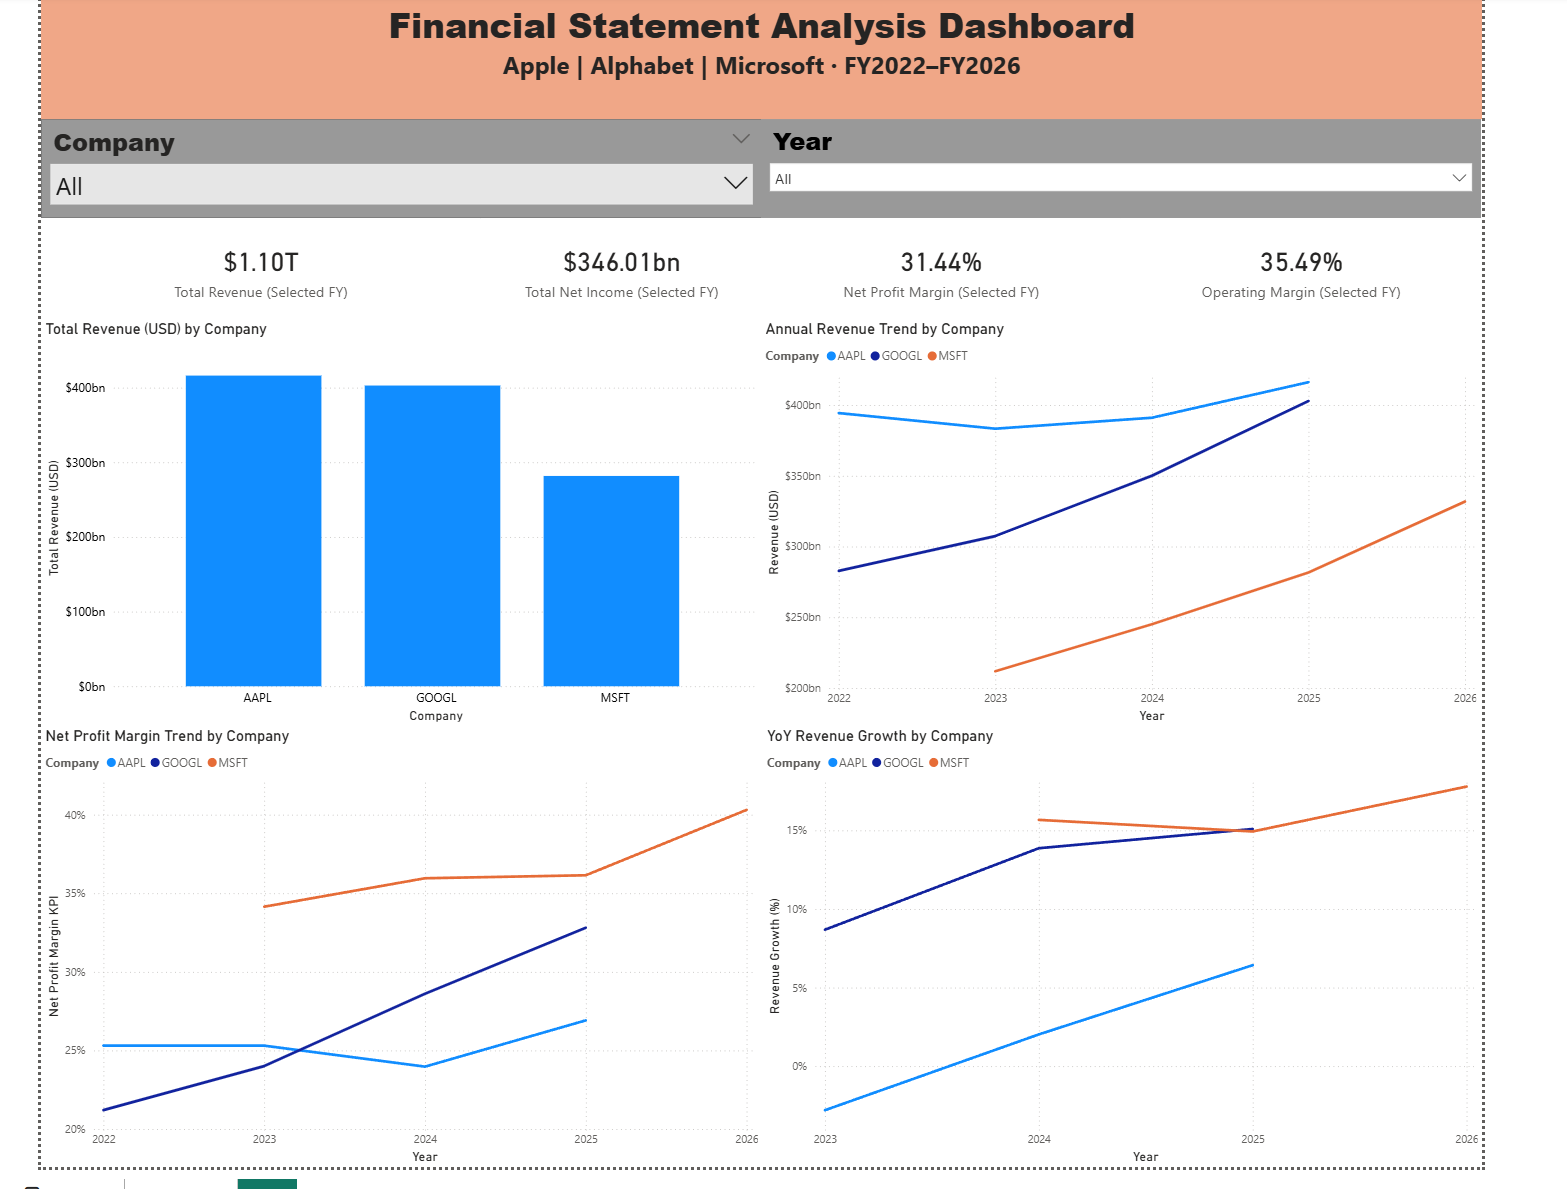

The page's visual inventory and layout, read from the dashboard file:
{"tool":"powerbi","page":{"name":"Page 1","canvas":[1600,1300],"ordinal":0},"visuals":[{"type":"slicer","fields":{"Values":["financial_dashboard_data.symbol"]},"box":[0,136.6,801,109.9],"z":0},{"type":"slicer","fields":{"Values":["financial_dashboard_data.year"]},"box":[799.3,136.6,799.3,109.9],"z":1000},{"type":"card","fields":{"Values":["financial_dashboard_data.Revenue KPI"]},"box":[0,246.5,487.9,113.2],"z":2000},{"type":"card","fields":{"Values":["financial_dashboard_data.Net Income KPI"]},"box":[487.9,246.5,313.1,113.2],"z":3000},{"type":"card","fields":{"Values":["financial_dashboard_data.Net Profit Margin KPI"]},"box":[799.3,246.5,399.7,113.2],"z":4000},{"type":"card","fields":{"Values":["financial_dashboard_data.Operating Margin KPI"]},"box":[1199,246.5,399.7,113.2],"z":5000},{"type":"clusteredColumnChart","fields":{"Category":["financial_dashboard_data.symbol"],"Y":["financial_dashboard_data.Revenue KPI"]},"box":[0,359.7,801,451.3],"z":6000},{"type":"lineChart","title":"Net Profit Margin Trend by Company","fields":{"Category":["financial_dashboard_data.year"],"Series":["financial_dashboard_data.symbol"],"Y":["financial_dashboard_data.Net Profit Margin KPI"]},"box":[0,811,801,489.6],"z":7000},{"type":"lineChart","title":"Annual Revenue Trend by Company","fields":{"Category":["financial_dashboard_data.year"],"Series":["financial_dashboard_data.symbol"],"Y":["financial_dashboard_data.Revenue KPI"]},"box":[799.3,359.7,799.3,451.3],"z":8000},{"type":"lineChart","title":"YoY Revenue Growth by Company","fields":{"Category":["financial_dashboard_data.year"],"Series":["financial_dashboard_data.symbol"],"Y":["Sum(financial_dashboard_data.YoY Revenue Growth)"]},"box":[801,811,799.3,489.6],"z":9000},{"type":"textbox","box":[0,0,1600.3,136.6],"z":10000}]}

Visuals, with their boxes on the page's 1600x1300 design canvas (x1, y1, x2, y2). These are canvas units, not pixel positions in the 1567x1189 screenshot, which may show the page scaled, cropped or inside an application window:
slicer - financial_dashboard_data.symbol: {"x1": 0, "y1": 137, "x2": 801, "y2": 246}
slicer - financial_dashboard_data.year: {"x1": 799, "y1": 137, "x2": 1599, "y2": 246}
card - financial_dashboard_data.Revenue KPI: {"x1": 0, "y1": 246, "x2": 488, "y2": 360}
card - financial_dashboard_data.Net Income KPI: {"x1": 488, "y1": 246, "x2": 801, "y2": 360}
card - financial_dashboard_data.Net Profit Margin KPI: {"x1": 799, "y1": 246, "x2": 1199, "y2": 360}
card - financial_dashboard_data.Operating Margin KPI: {"x1": 1199, "y1": 246, "x2": 1599, "y2": 360}
clusteredColumnChart - financial_dashboard_data.symbol x financial_dashboard_data.Revenue KPI: {"x1": 0, "y1": 360, "x2": 801, "y2": 811}
"Net Profit Margin Trend by Company" lineChart: {"x1": 0, "y1": 811, "x2": 801, "y2": 1301}
"Annual Revenue Trend by Company" lineChart: {"x1": 799, "y1": 360, "x2": 1599, "y2": 811}
"YoY Revenue Growth by Company" lineChart: {"x1": 801, "y1": 811, "x2": 1600, "y2": 1301}
textbox: {"x1": 0, "y1": 0, "x2": 1600, "y2": 137}
